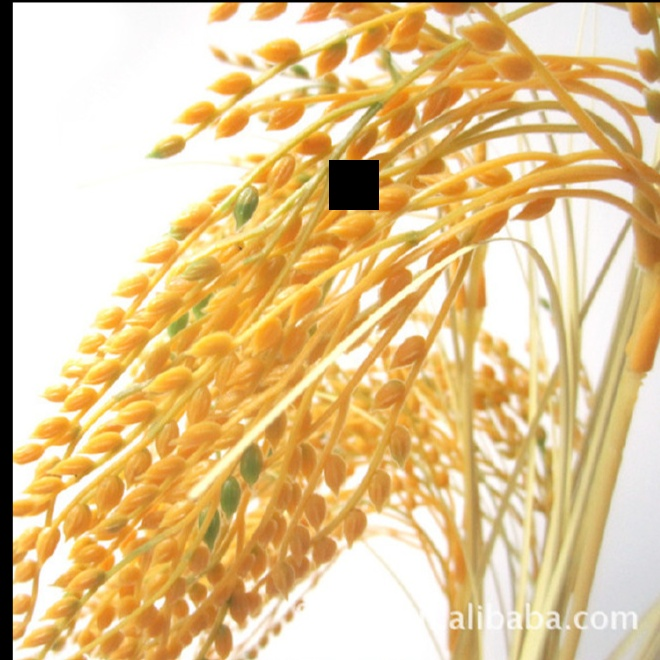rice: (28, 15, 557, 634)
